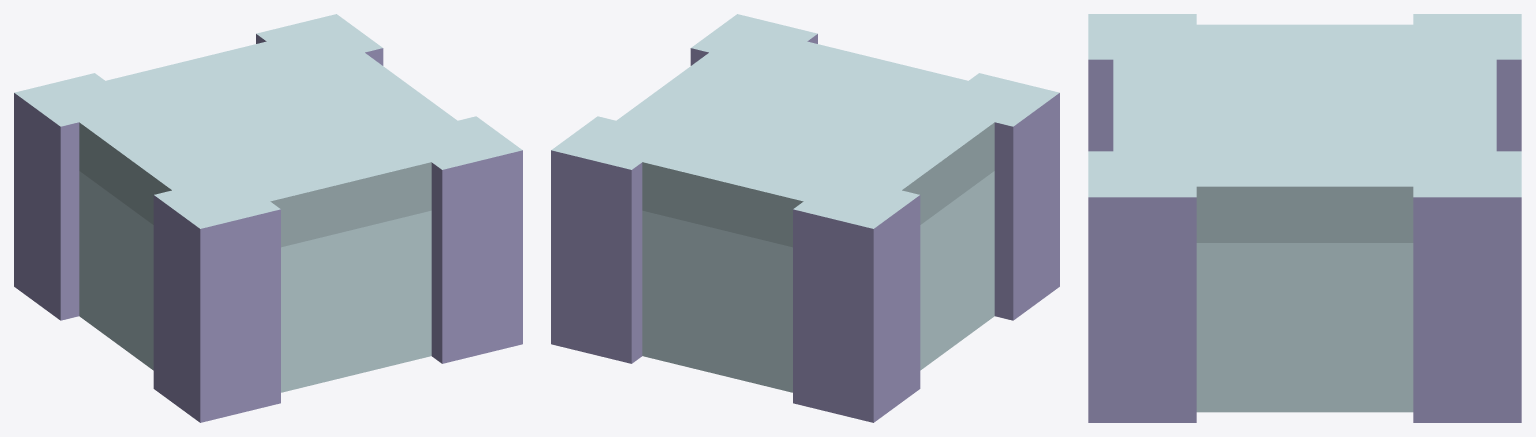
The model's file is towerSquare_middleB.glb.
3 views of the same model, side by side, from view 1: azimuth 30°, elevation 25°; view 2: azimuth 150°, elevation 25°; view 3: azimuth 270°, elevation 25° (orthographic). The views are drawn at different scales.
Visible parts, largest first — view 1: towerSquare_middleB; view 2: towerSquare_middleB; view 3: towerSquare_middleB.
Part boxes in pixels (box(x1,y1,x2,y2)): towerSquare_middleB: box(14, 14, 522, 422); towerSquare_middleB: box(551, 14, 1059, 422); towerSquare_middleB: box(1088, 14, 1521, 422).
Bounding box in the file's own units: 0.87 × 0.5 × 0.87.
